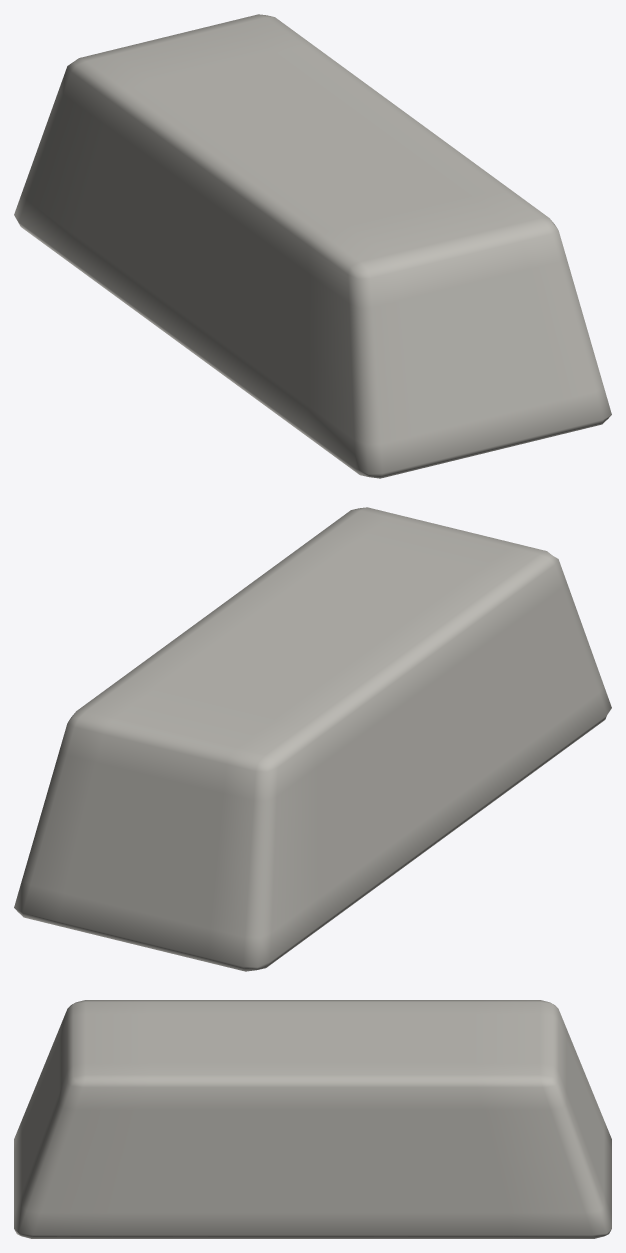
3 renders of one model, top to bottom at view 1: azimuth 30°, elevation 25°; view 2: azimuth 150°, elevation 25°; view 3: azimuth 270°, elevation 25°, orthographic. The views are drawn at different scales.
Visible parts, largest first — view 1: Box001; view 2: Box001; view 3: Box001.
Part boxes in pixels (x1,y1,x2,y2): Box001: (14, 14, 611, 478); Box001: (14, 507, 611, 971); Box001: (14, 1000, 611, 1238).
Bounding box in the file's own units: 0.1926 × 0.1342 × 0.4774.
1 material, 1 textured.
